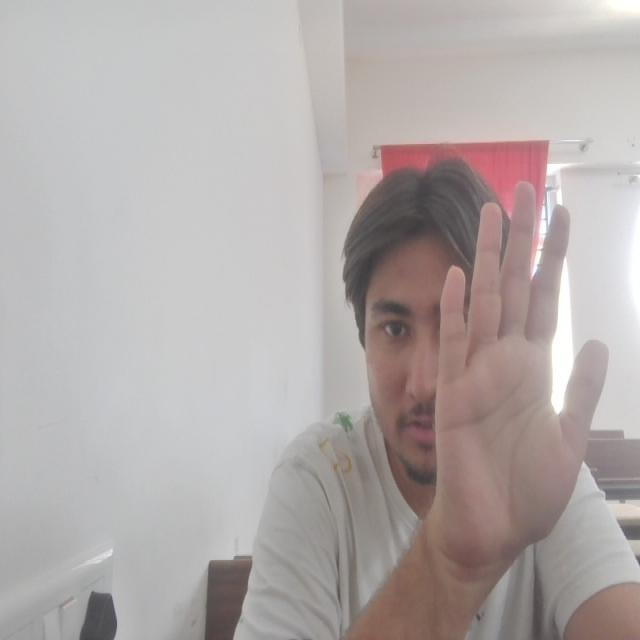hello: (434, 177, 610, 582)
